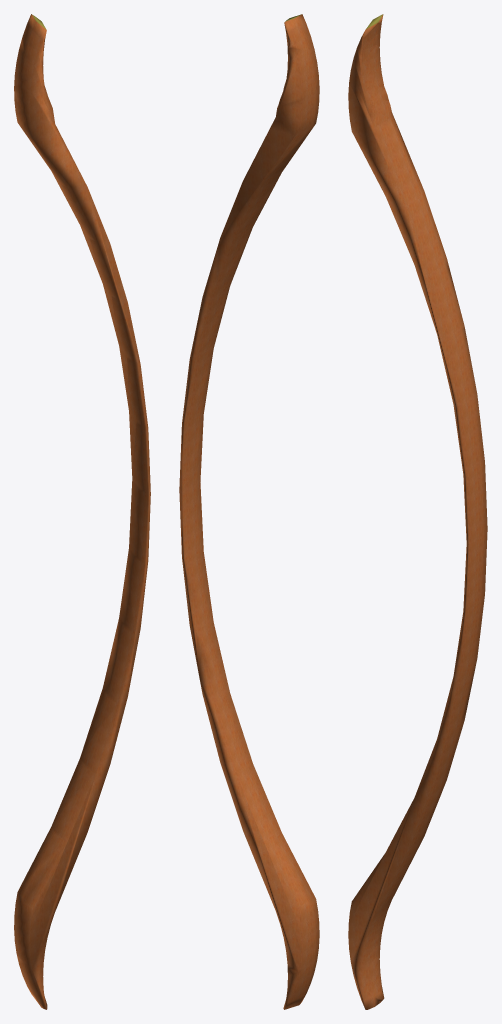
Rendered from Bow.obj.
3 views of the same model, side by side, from view 1: azimuth 30°, elevation 25°; view 2: azimuth 150°, elevation 25°; view 3: azimuth 330°, elevation 25° (orthographic).
Parts seen in each view (by area): view 1: Mesh1 Component_3_1 Model; view 2: Mesh1 Component_3_1 Model; view 3: Mesh1 Component_3_1 Model.
Part boxes in pixels (box(x1,y1,x2,y2)): Mesh1 Component_3_1 Model: box(14, 14, 150, 1009); Mesh1 Component_3_1 Model: box(179, 14, 319, 1009); Mesh1 Component_3_1 Model: box(348, 14, 487, 1009).
Size of the model in its own units: 7.19 by 53.58 by 1.66.
Materials: 2 (1 with a texture image).
